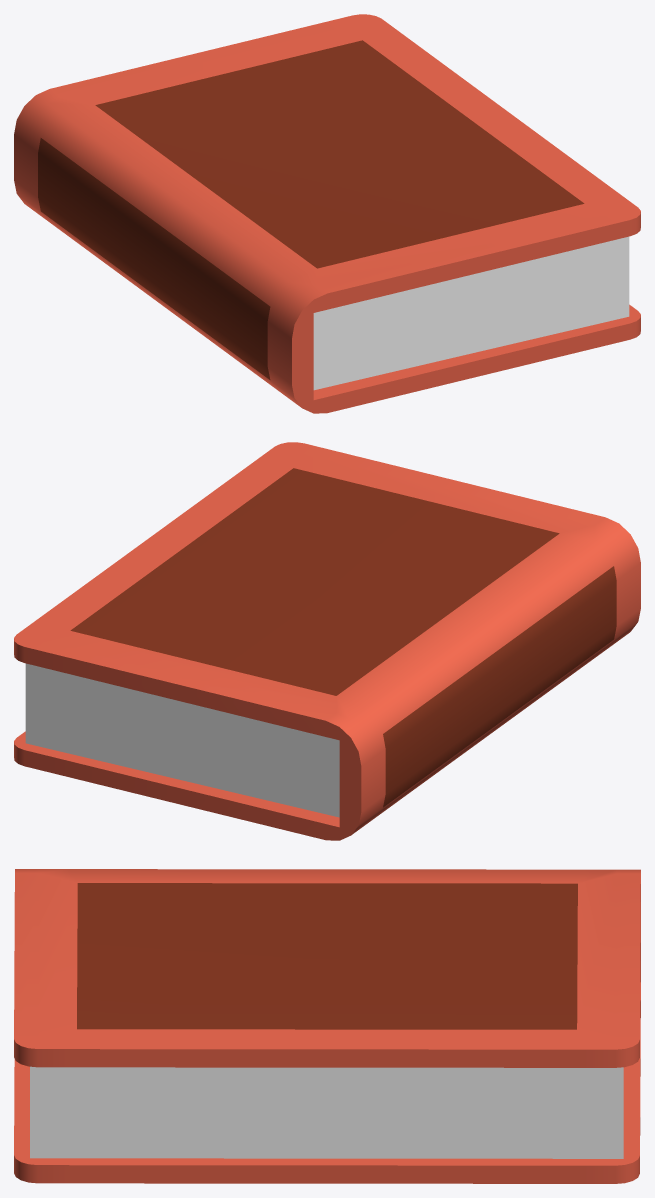
File: book_20.fbx
3 renders of one model, top to bottom at view 1: azimuth 30°, elevation 25°; view 2: azimuth 150°, elevation 25°; view 3: azimuth 270°, elevation 25°, orthographic. The views are drawn at different scales.
Visible parts, largest first — view 1: book_20; view 2: book_20; view 3: book_20.
Part boxes in pixels (x1,y1,x2,y2): book_20: [14, 14, 640, 413]; book_20: [14, 442, 640, 840]; book_20: [14, 869, 640, 1183].
Bounding box in the file's own units: 0.3312 × 0.1059 × 0.4481.
